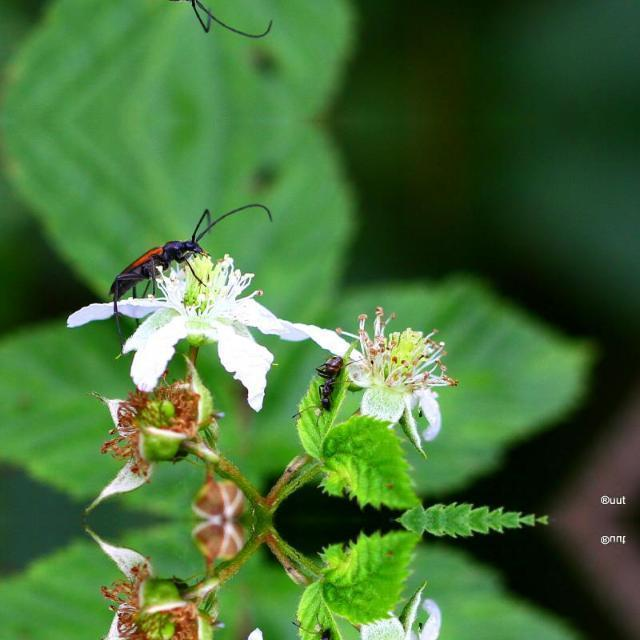Formica: (292, 342, 358, 426), (292, 612, 356, 640)
